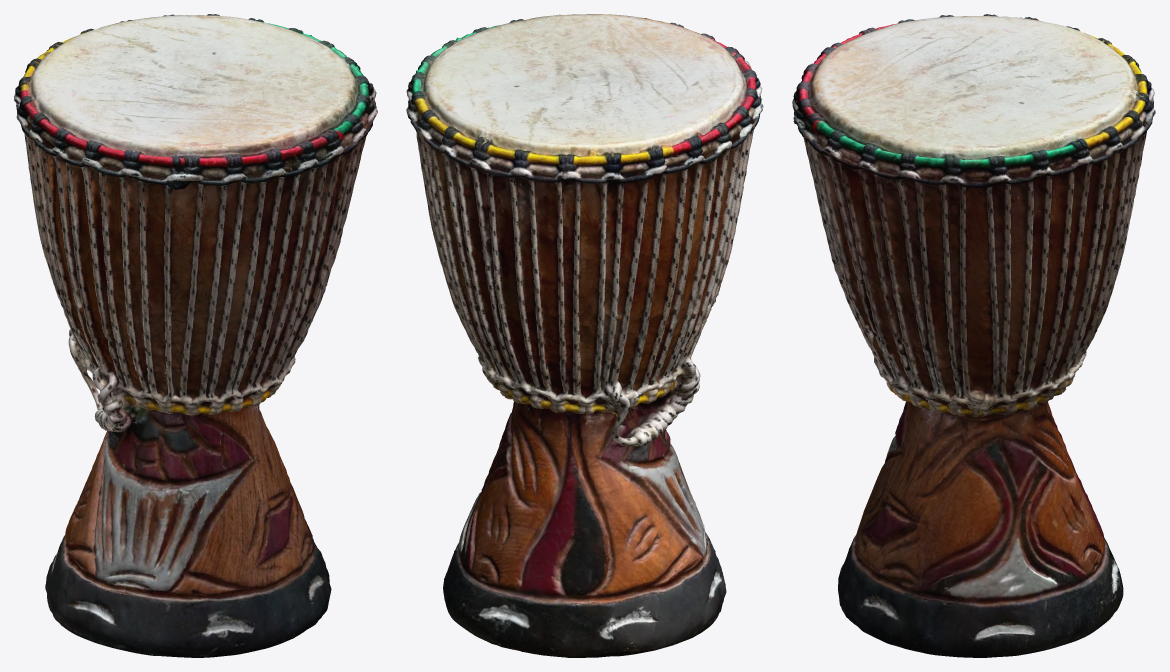
Rendered from djembe.glb.
3 renders of one model, left to right at view 1: azimuth 30°, elevation 25°; view 2: azimuth 150°, elevation 25°; view 3: azimuth 270°, elevation 25°, orthographic.
Visible parts, largest first — view 1: Djembe - African drum_Material 0_0; view 2: Djembe - African drum_Material 0_0; view 3: Djembe - African drum_Material 0_0.
Boxes of the visible parts, <box> form: Djembe - African drum_Material 0_0: <box>14,14,377,657</box>; Djembe - African drum_Material 0_0: <box>406,14,763,657</box>; Djembe - African drum_Material 0_0: <box>792,14,1155,657</box>.
Size of the model in its own units: 0.2511 by 0.4005 by 0.2535.
1 material, 1 textured.
